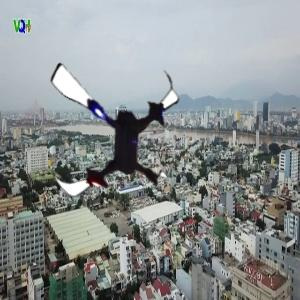drone: (28, 47, 194, 213)
